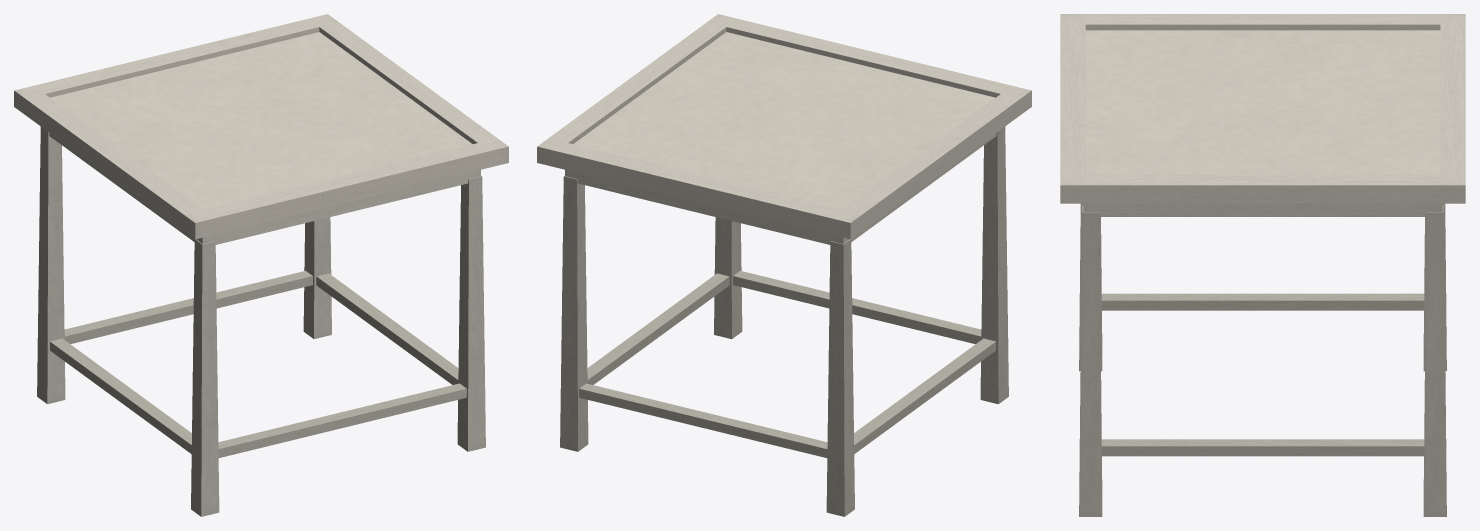
Rendered from pool_table.glb.
3 renders of one model, left to right at view 1: azimuth 30°, elevation 25°; view 2: azimuth 150°, elevation 25°; view 3: azimuth 270°, elevation 25°, orthographic. The views are drawn at different scales.
Visible parts, largest first — view 1: core_pool_table; view 2: core_pool_table; view 3: core_pool_table.
Part boxes in pixels (box(x1,y1,x2,y2)): core_pool_table: box(14, 14, 508, 516); core_pool_table: box(537, 14, 1031, 516); core_pool_table: box(1060, 14, 1465, 516).
Size of the model in its own units: 0.8 by 0.74 by 0.8.
Materials: 1 (1 with a texture image).
